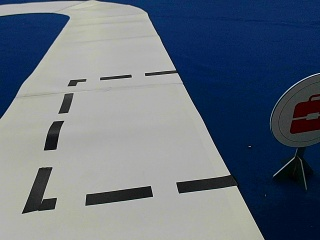company: (270, 75, 318, 146)
